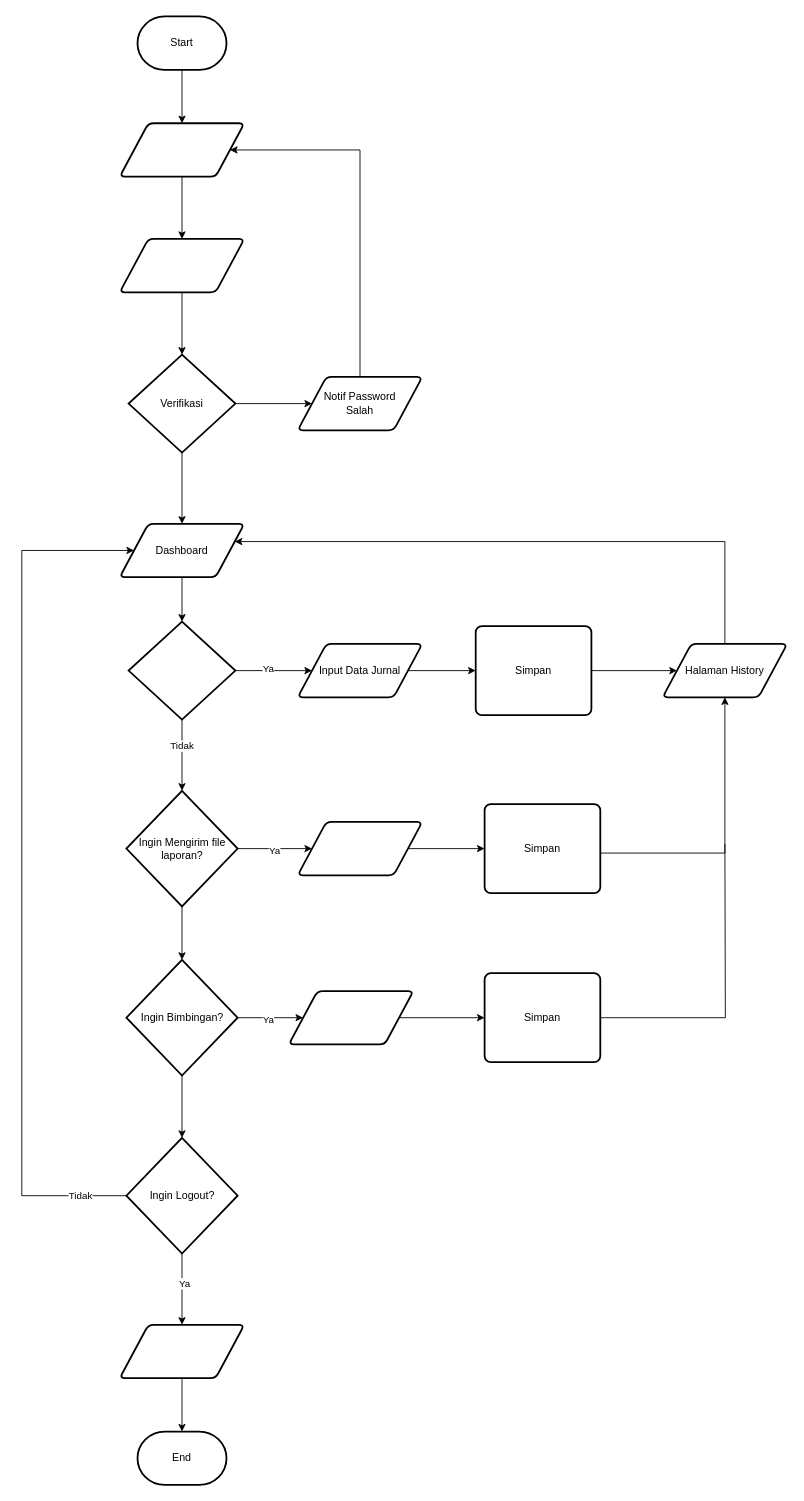
Image size: 804x1501. Some labels were removed from this diagram. Here are the shapes that lost their labels. From the top down, the box of each, then its label:
(118, 122, 245, 177): Login
(118, 238, 245, 293): Mengisi Akun dan Password
(127, 620, 236, 720): Ingin Mengisi Jurnal?
(296, 821, 423, 876): Input File Laporan
(287, 990, 414, 1045): Mengisi Form Bimbingan
(118, 1323, 245, 1379): Logout
